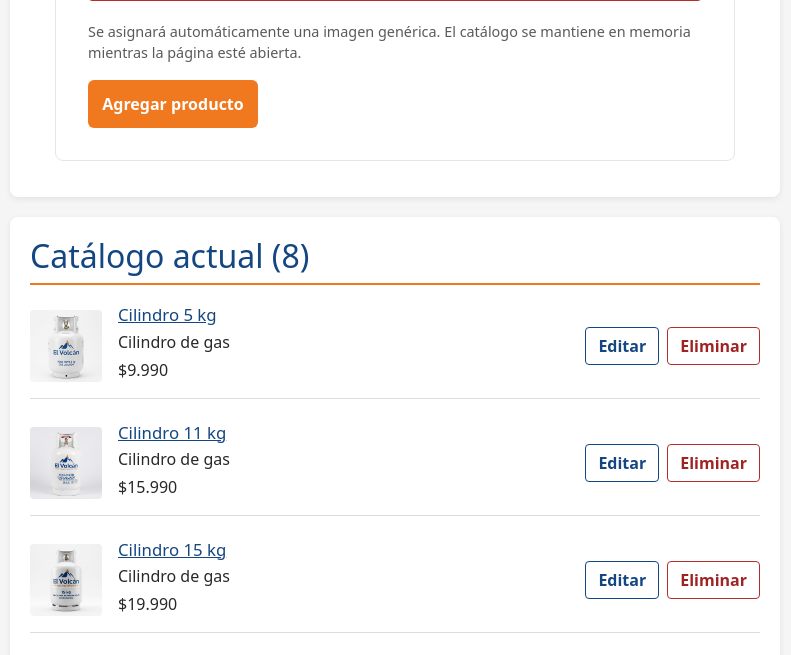
Test: elimina un producto del catálogo en memoria
(page scrolled)
Click the button "Eliminar" in the row of "$9.990": (714, 346) top-left (667, 326), bottom-right (760, 364)
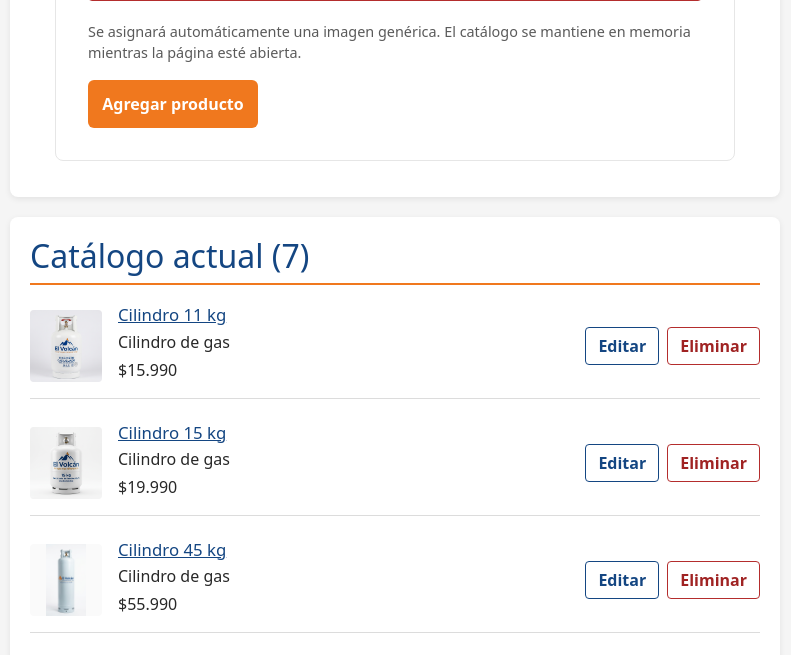
Expected: the link "Cilindro 5 kg" is gone
